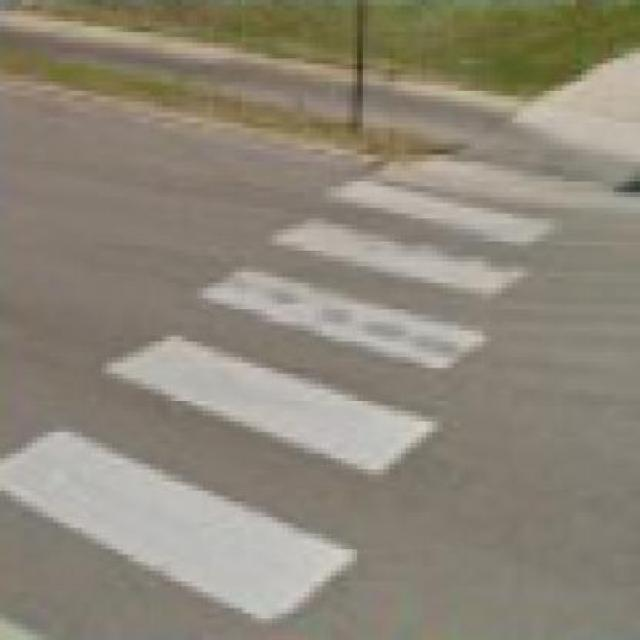crosswalk: (0, 164, 598, 627)
